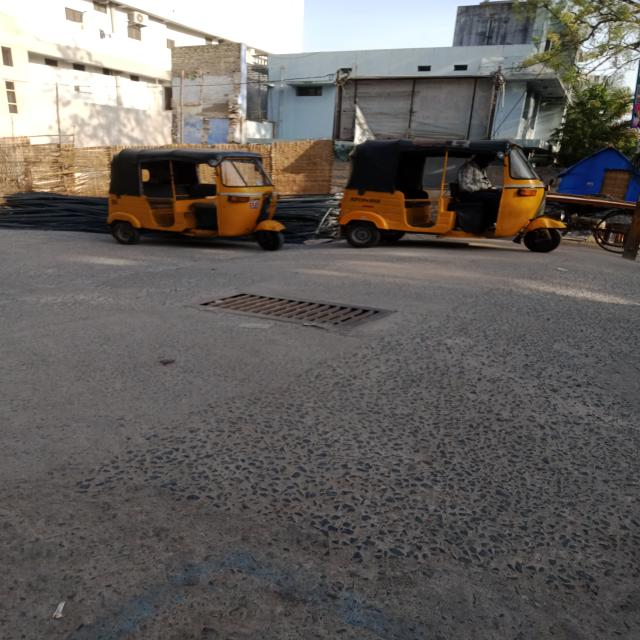Autorickshaw: (337, 132, 564, 254), (99, 141, 305, 257)
